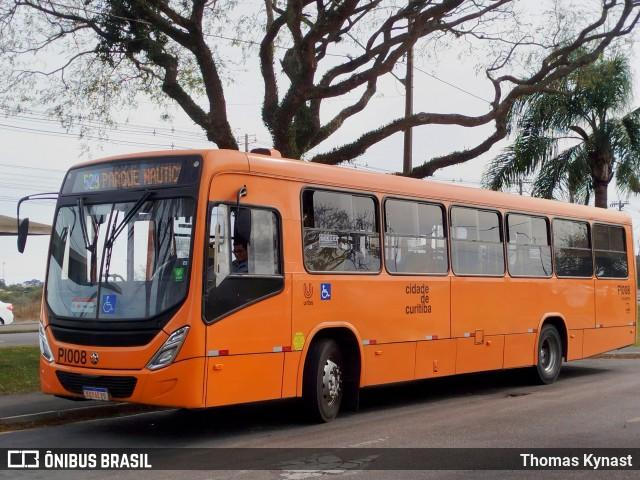PARQUE NAUTICO: (99, 163, 183, 192)
